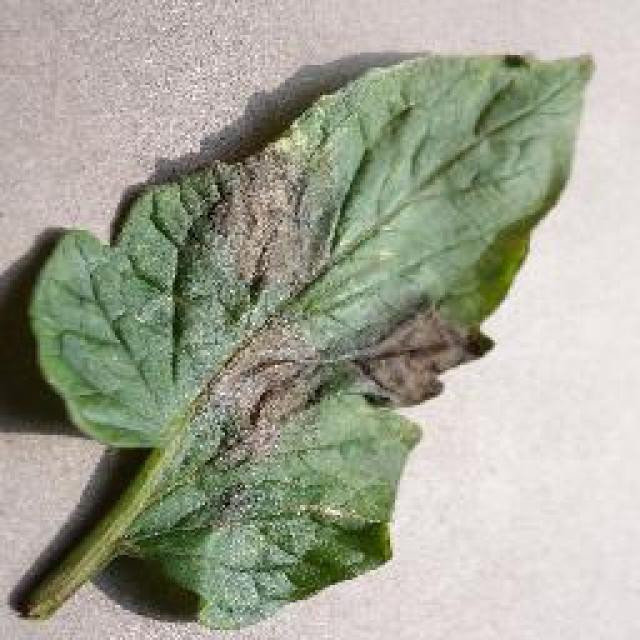Tomato Late Blight: (162, 88, 490, 510)
